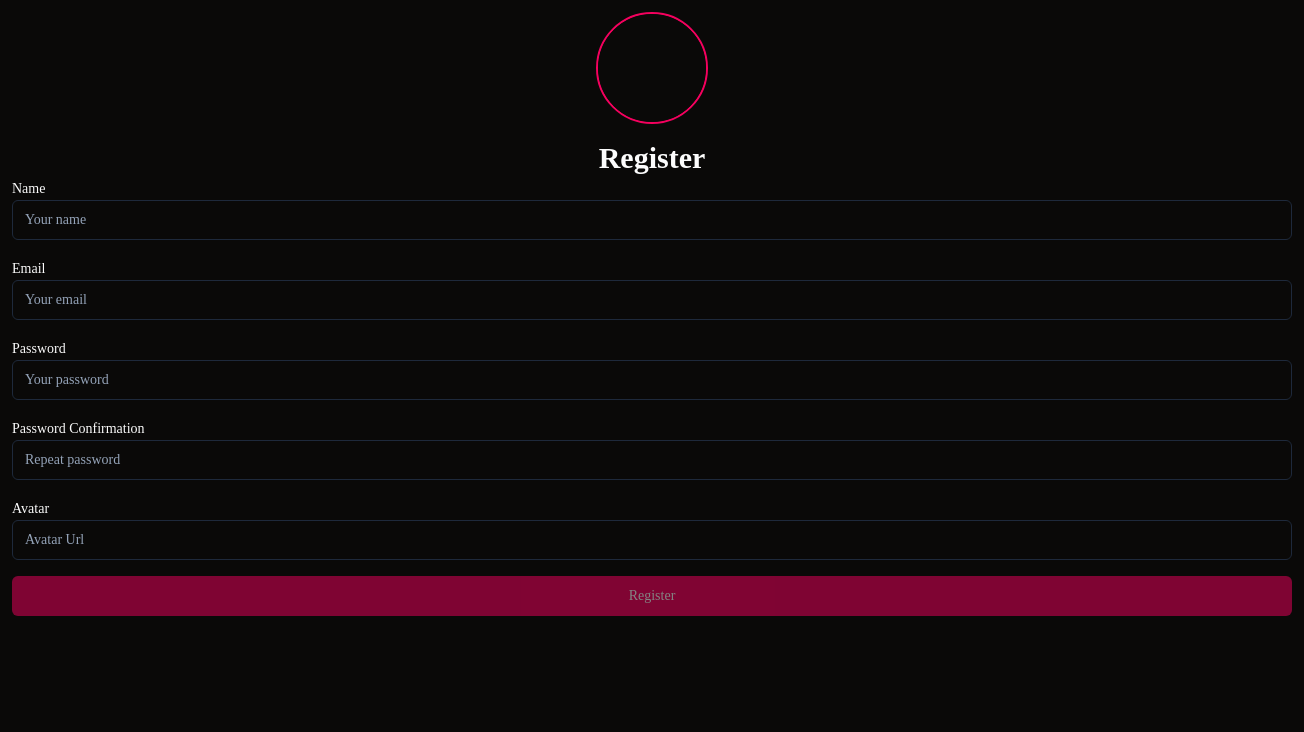
Test: LoginForm › simulates a successful registration
Type "Test_user" into the field with placeholder "Your name". click: {"x": 652, "y": 220}
box: [12,200,1292,240]
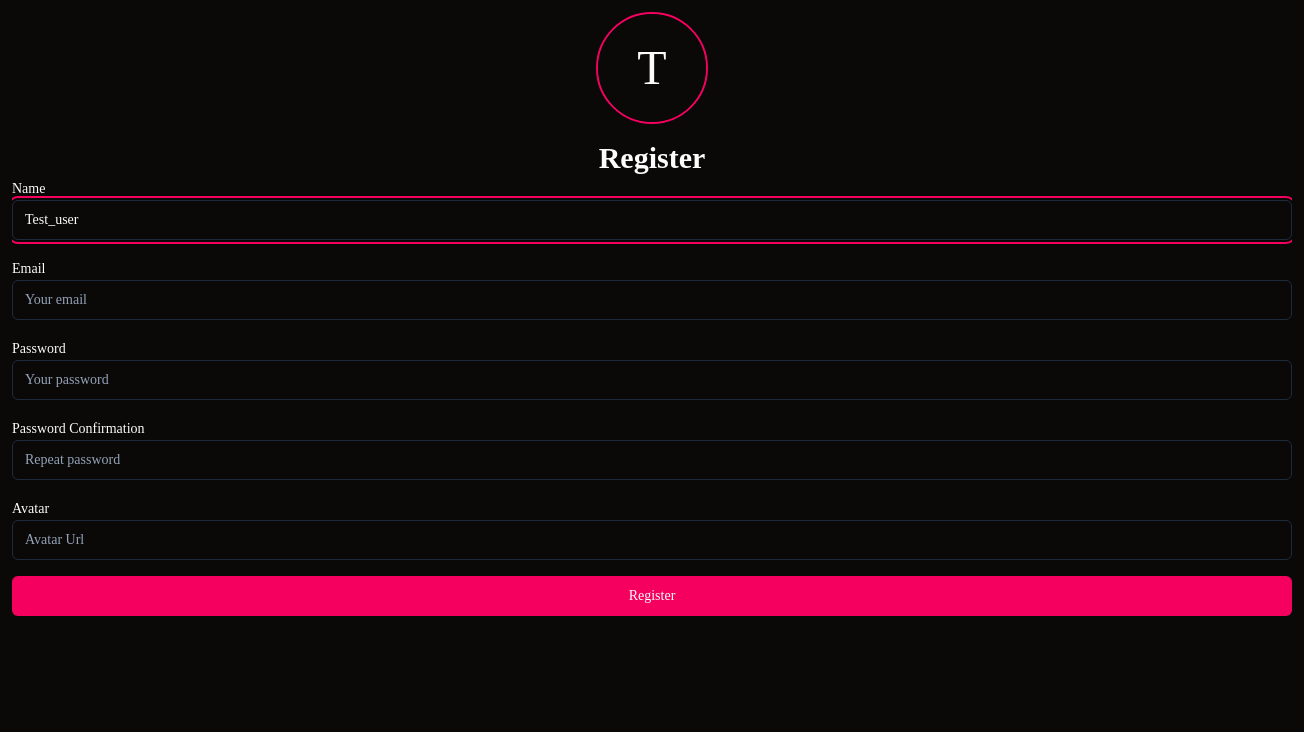
Type "test@stud.noroff.no" into the field with placeholder "Your email". click: {"x": 652, "y": 300}
box: [12,280,1292,320]
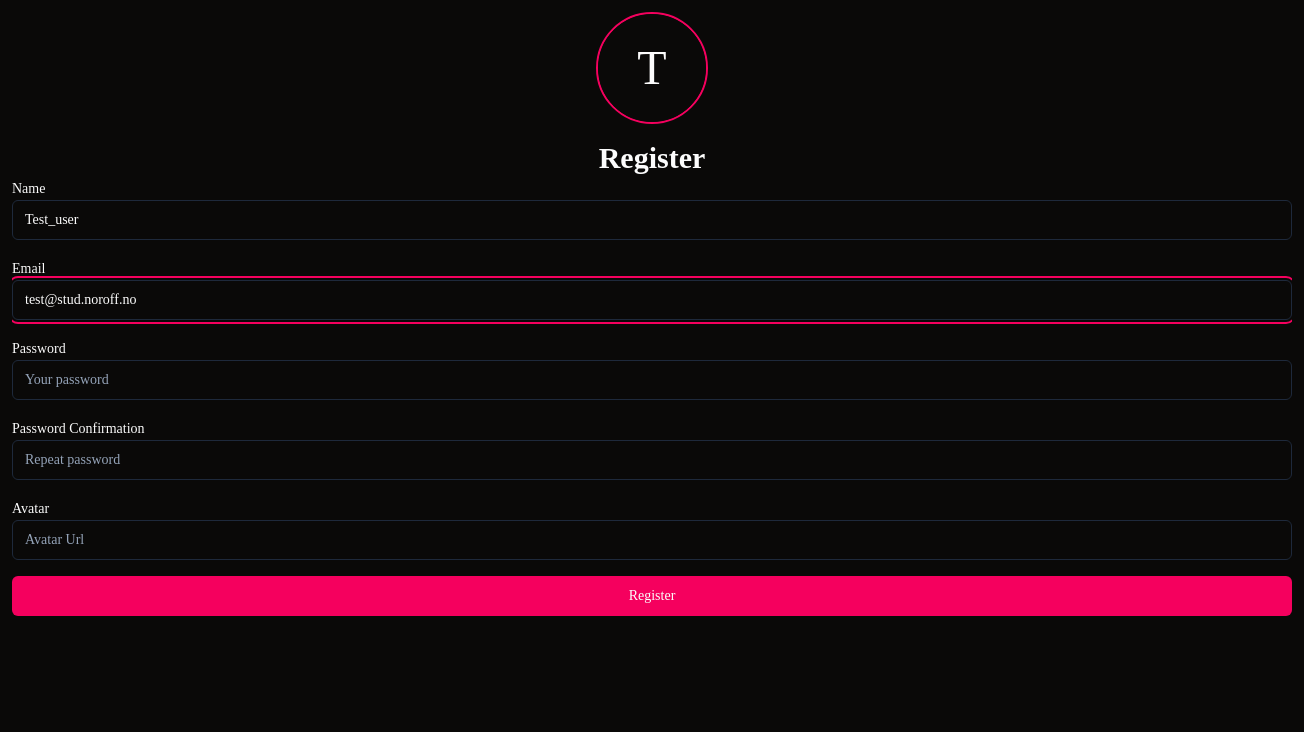
Type "password123" into the password field with placeholder "Your password". click: {"x": 652, "y": 380}
box: [12,360,1292,400]
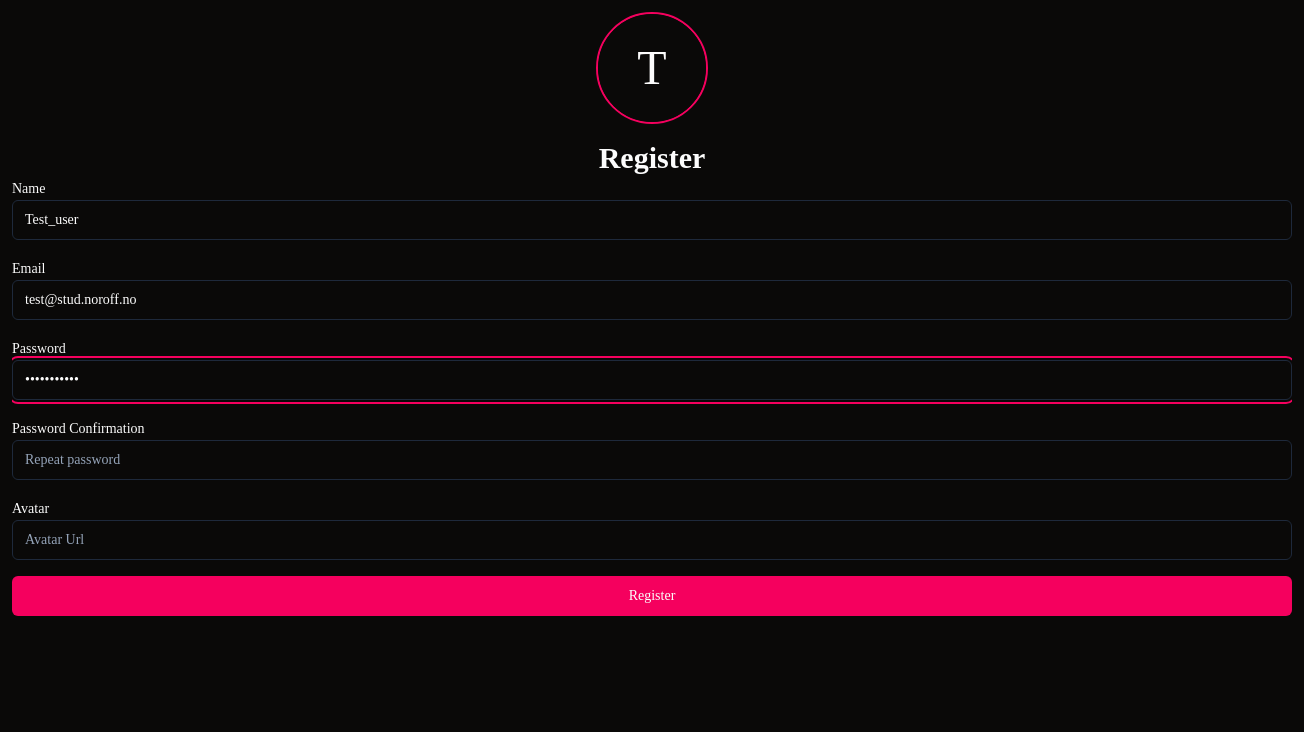
Type "password123" into the password field with placeholder "Repeat password". click: {"x": 652, "y": 460}
box: [12,440,1292,480]
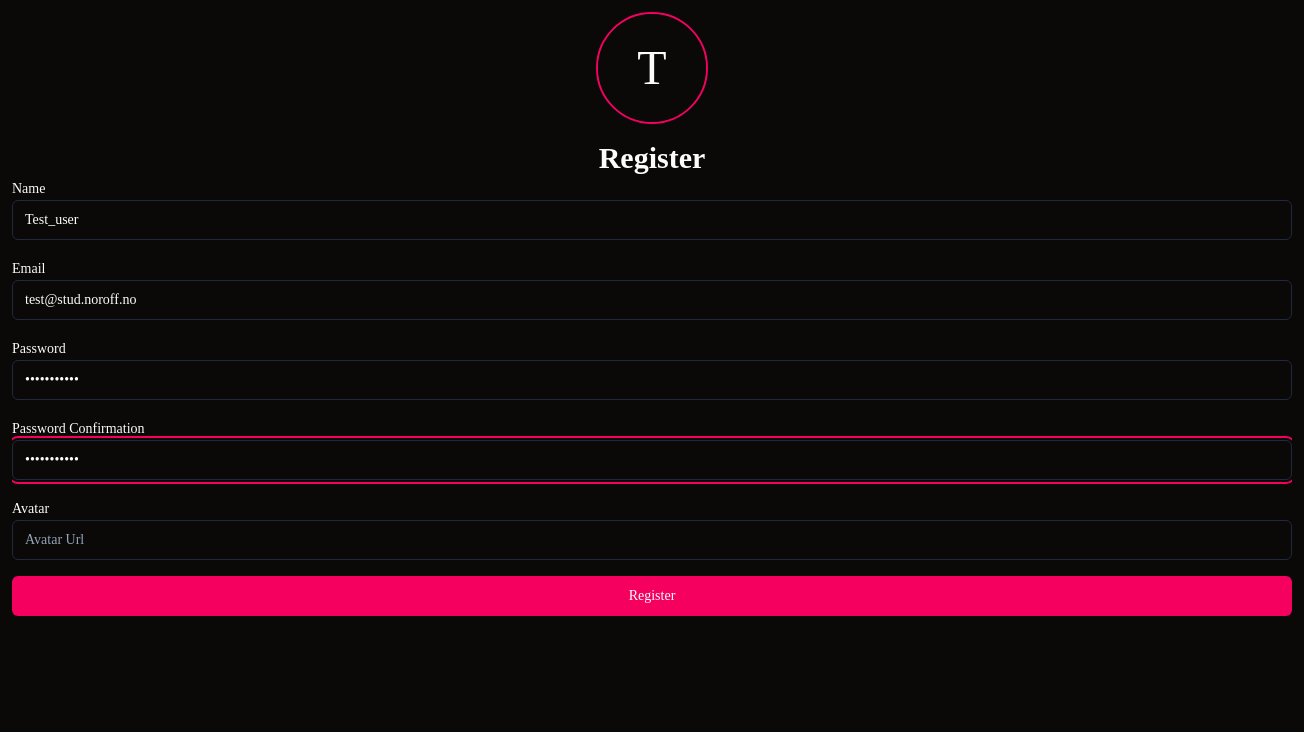
Type "http://example.com/avatar.jpg" into the field with placeholder "Avatar Url". click: {"x": 652, "y": 540}
box: [12,520,1292,560]
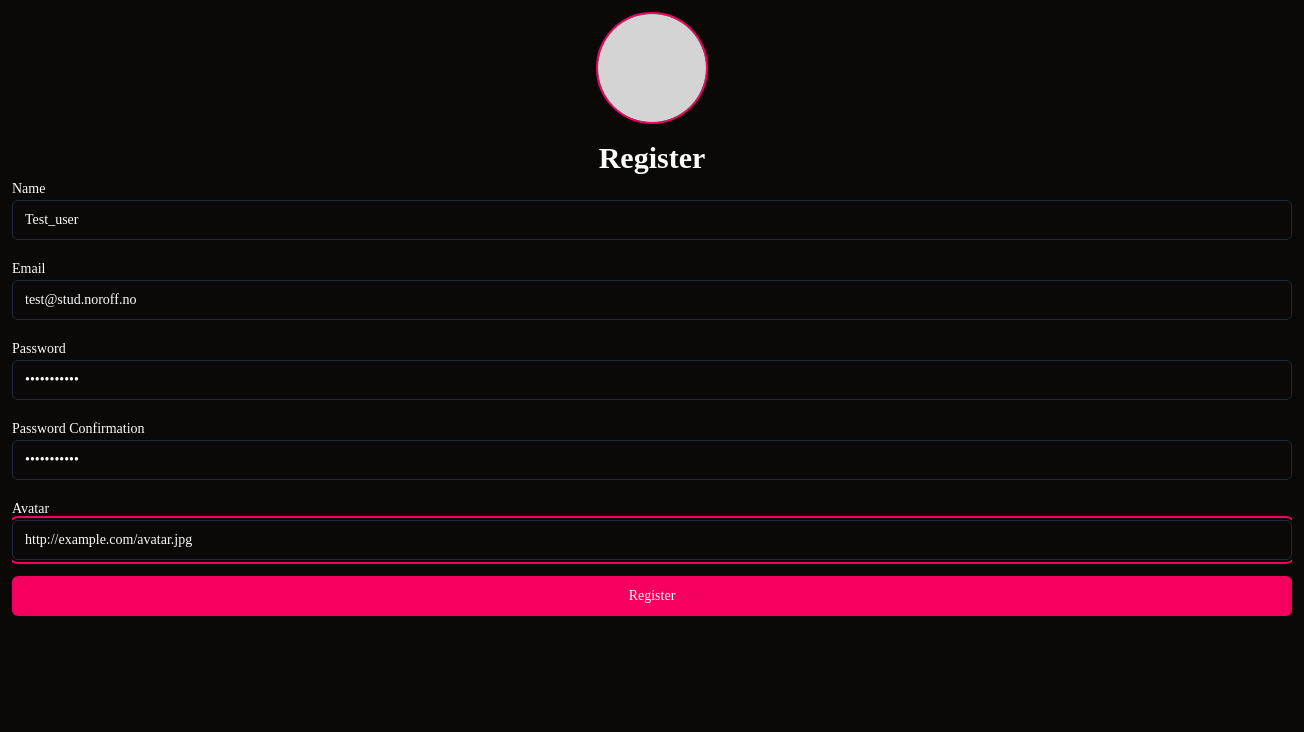
Click the button "Register". click: {"x": 652, "y": 596}
box: [12,576,1292,616]
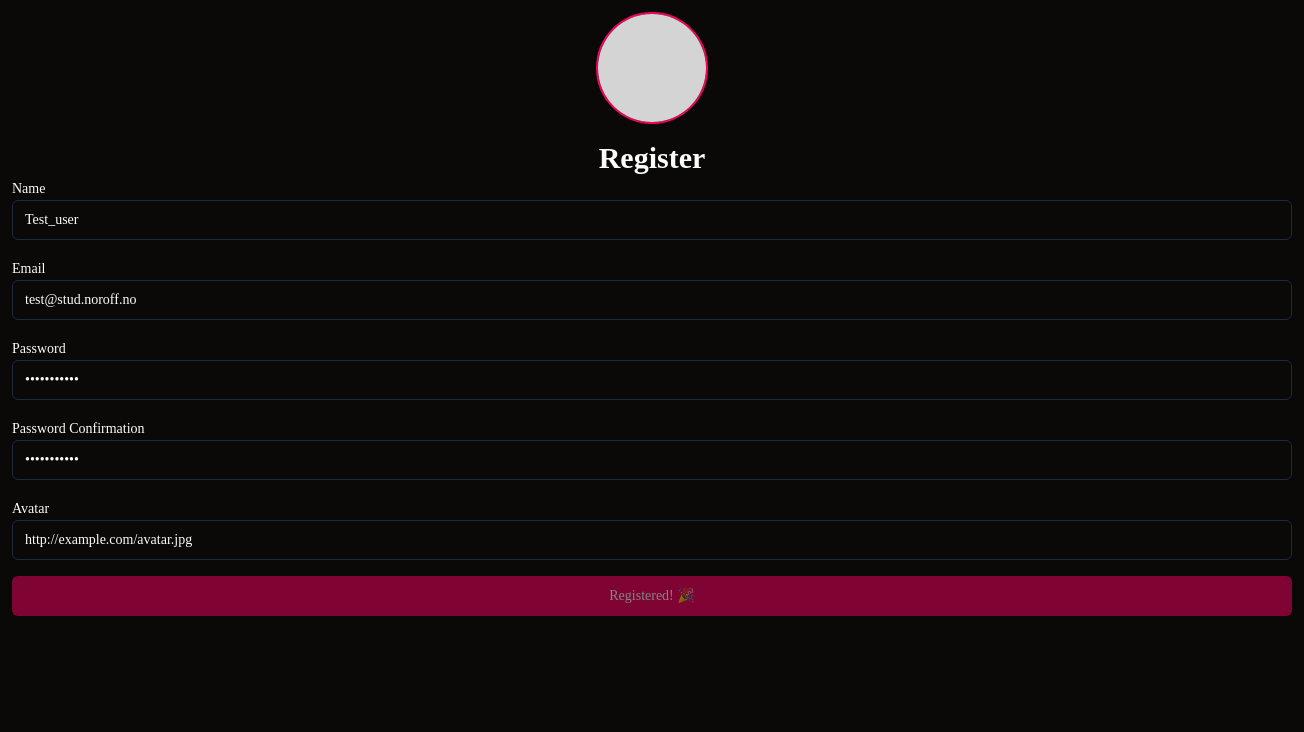
Now the button "Registered! 🎉" is shown, box [12,576,1292,616]
